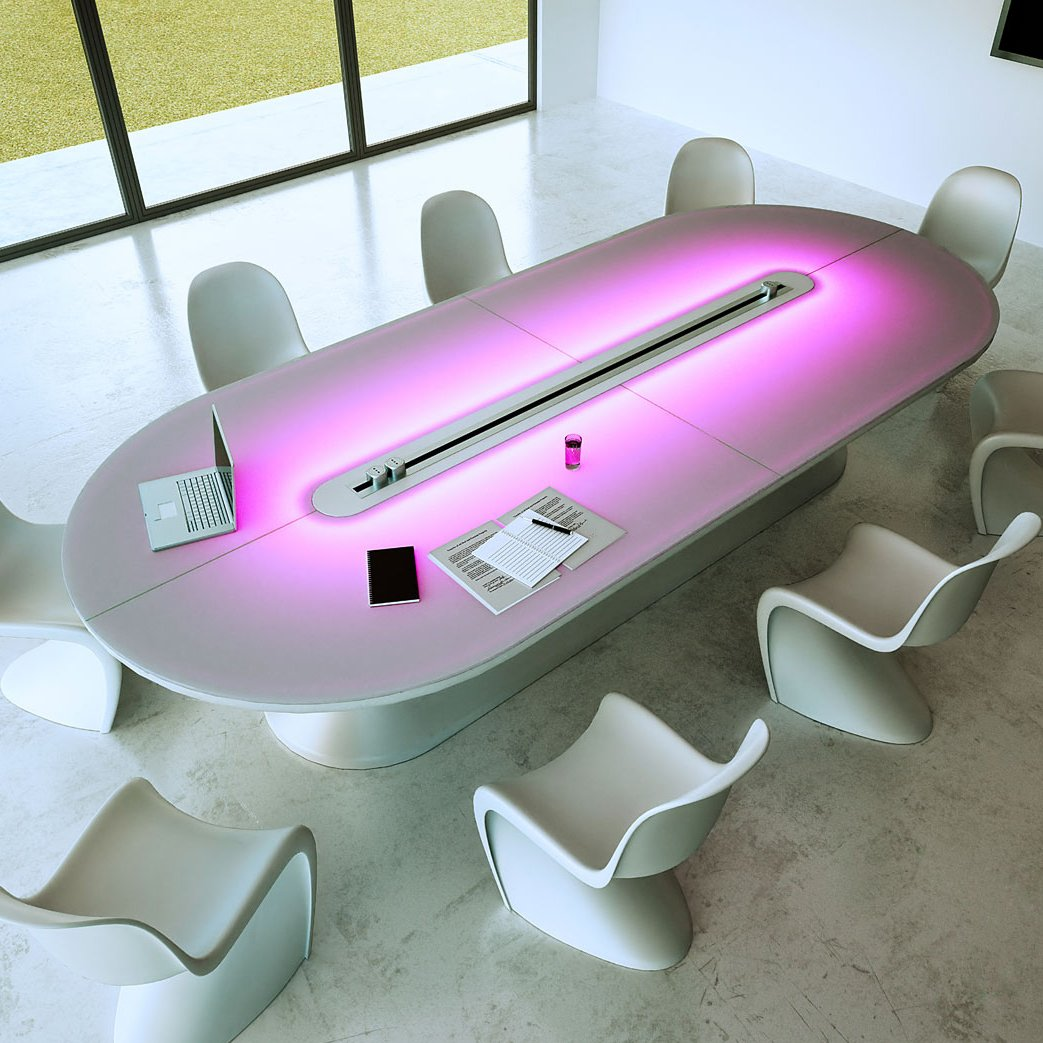conference_table: (61, 203, 1000, 769)
